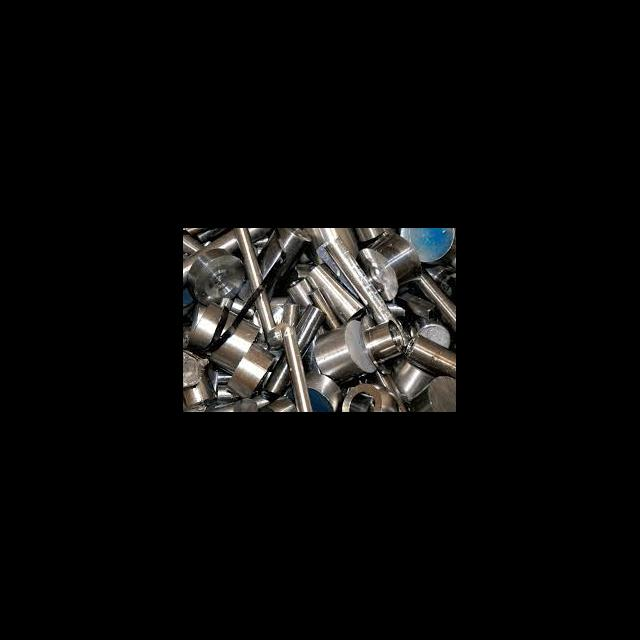metal: (326, 234, 402, 334), (228, 228, 278, 336), (272, 319, 328, 411), (306, 312, 376, 378), (354, 231, 424, 294), (218, 336, 282, 402), (183, 245, 254, 304), (192, 300, 256, 364), (304, 260, 360, 316), (402, 329, 456, 380), (358, 317, 410, 365), (282, 274, 332, 319), (304, 285, 342, 327)
